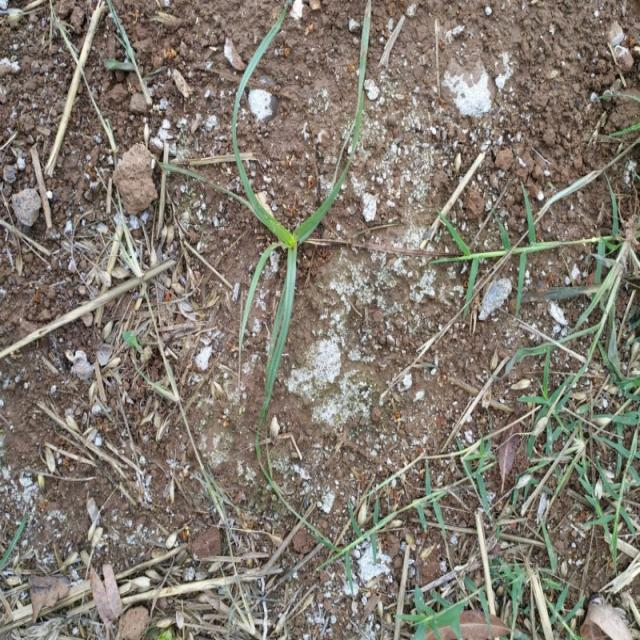sedge: (173, 51, 368, 446)
